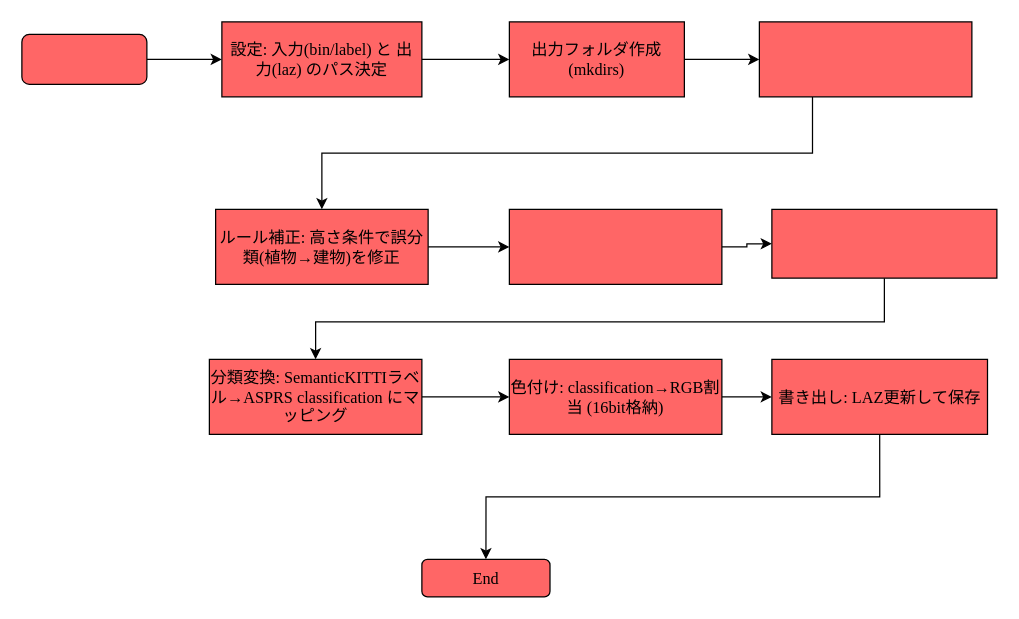
This 1019x619 diagram has some shape labels left out. The centre of each missing label's shape, as x and y in pixels:
"LAS準備: ヘッダー作成 / 座標格納" goes at (x=884, y=243).
"Start" goes at (x=84, y=58).
"データ読込: BIN→点群(x,y,z,intensity) / LABEL→セマンティックID抽出" goes at (x=865, y=59).
"軽量化: ボクセルダウンサンプリングで点数削減" goes at (x=615, y=246).
